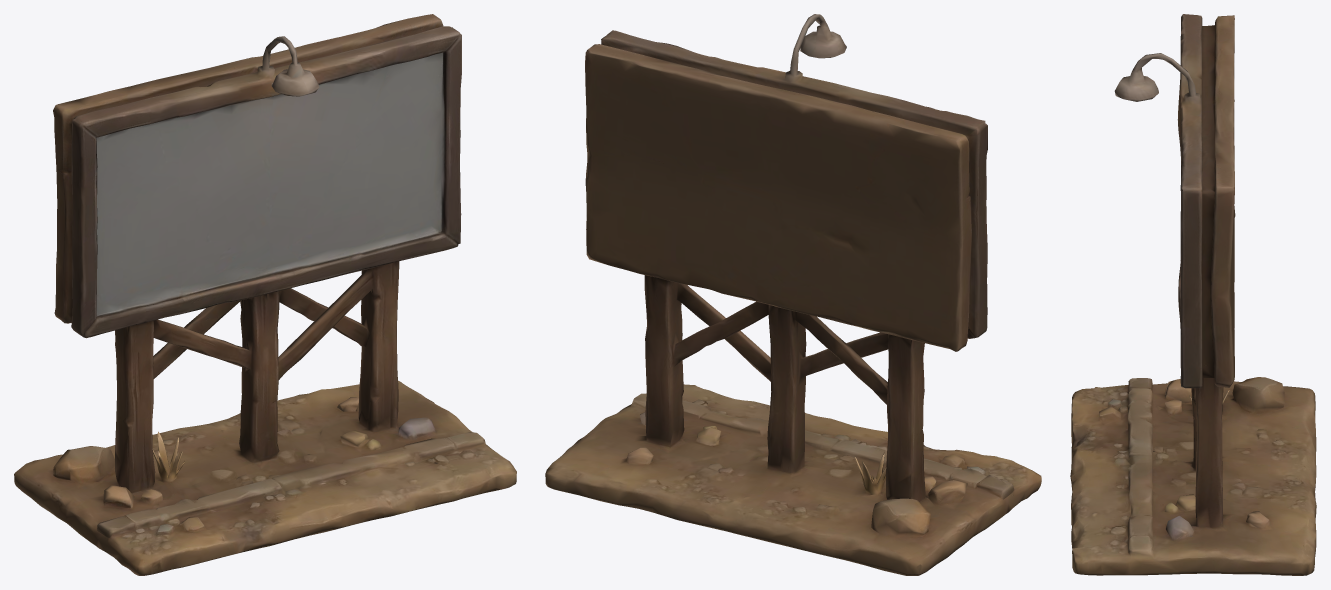
File: lagos_billboard.glb
3 views of the same model, side by side, from view 1: azimuth 30°, elevation 25°; view 2: azimuth 150°, elevation 25°; view 3: azimuth 270°, elevation 25° (orthographic). The views are drawn at different scales.
Visible parts, largest first — view 1: tripo_node_bb2c19a0-eb91-49d3-9e81-afbeae569eb8; view 2: tripo_node_bb2c19a0-eb91-49d3-9e81-afbeae569eb8; view 3: tripo_node_bb2c19a0-eb91-49d3-9e81-afbeae569eb8.
Part boxes in pixels (x1=…): tripo_node_bb2c19a0-eb91-49d3-9e81-afbeae569eb8: x1=14, y1=14, x2=516, y2=575; tripo_node_bb2c19a0-eb91-49d3-9e81-afbeae569eb8: x1=545, y1=14, x2=1041, y2=575; tripo_node_bb2c19a0-eb91-49d3-9e81-afbeae569eb8: x1=1070, y1=14, x2=1316, y2=575.
Size of the model in its own units: 0.8715 by 1 by 0.5119.
Materials: 1 (1 with a texture image).
